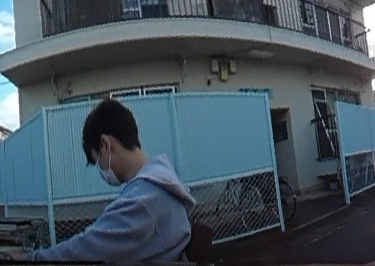person: (17, 100, 184, 260)
